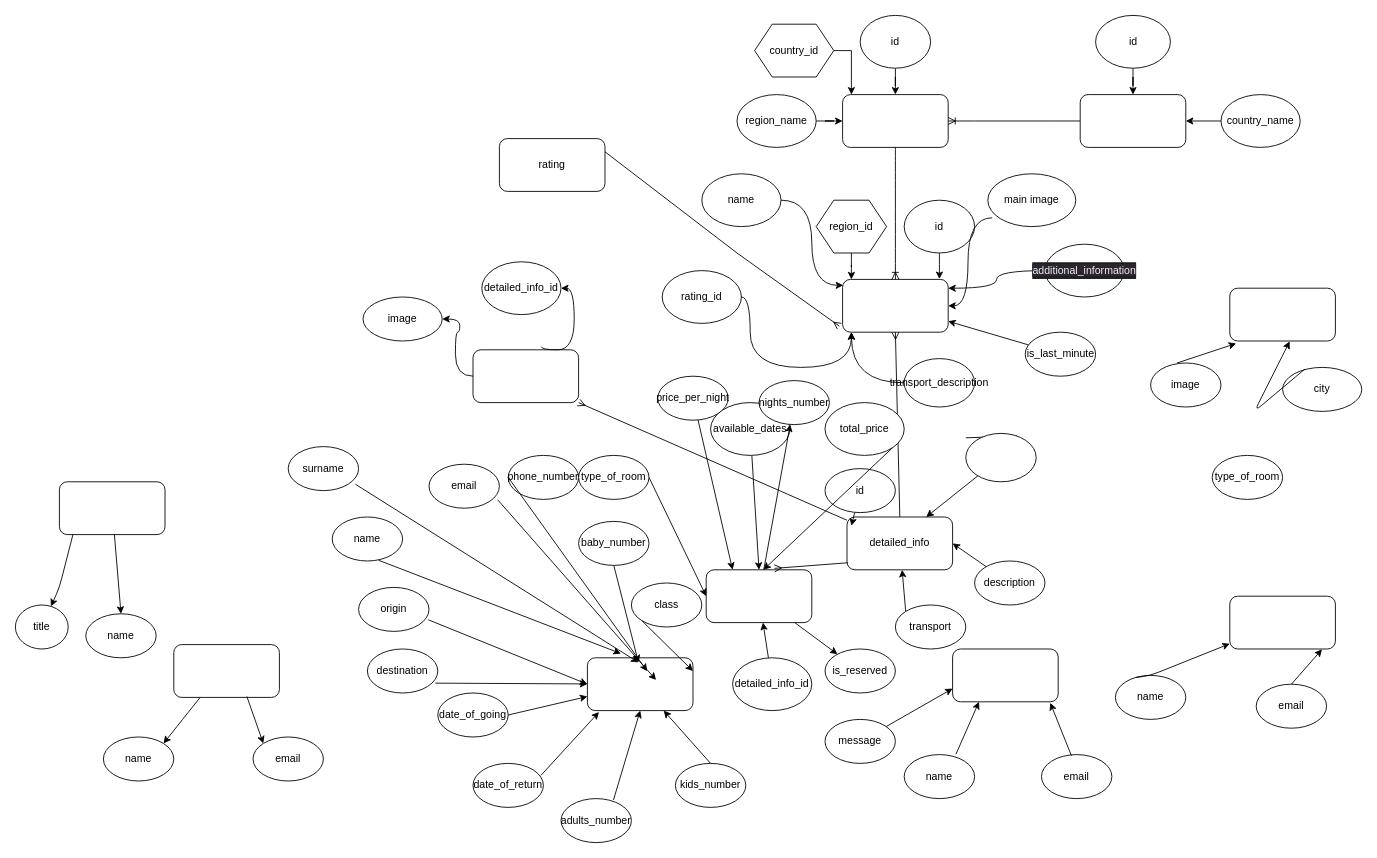
Some shapes in this 1377 by 858 pixel diagram are drawn without their labels. The shapes that lost their labels are listed below. From the top down, each one's centre as x and y in pixels, then its label:
At pixel 895 120: "region".
At pixel 1132 120: "countries".
At pixel 895 305: "accommodation".
At pixel 1282 314: "your_moments".
At pixel 525 376: "galery".
At pixel 1000 457: "accommodation_id".
At pixel 112 508: "offers".
At pixel 758 596: "rooms".
At pixel 1282 622: "newsletter".
At pixel 226 670: "subscribers".
At pixel 640 684: "airplane_ticket".
At pixel 1005 675: "contact".
